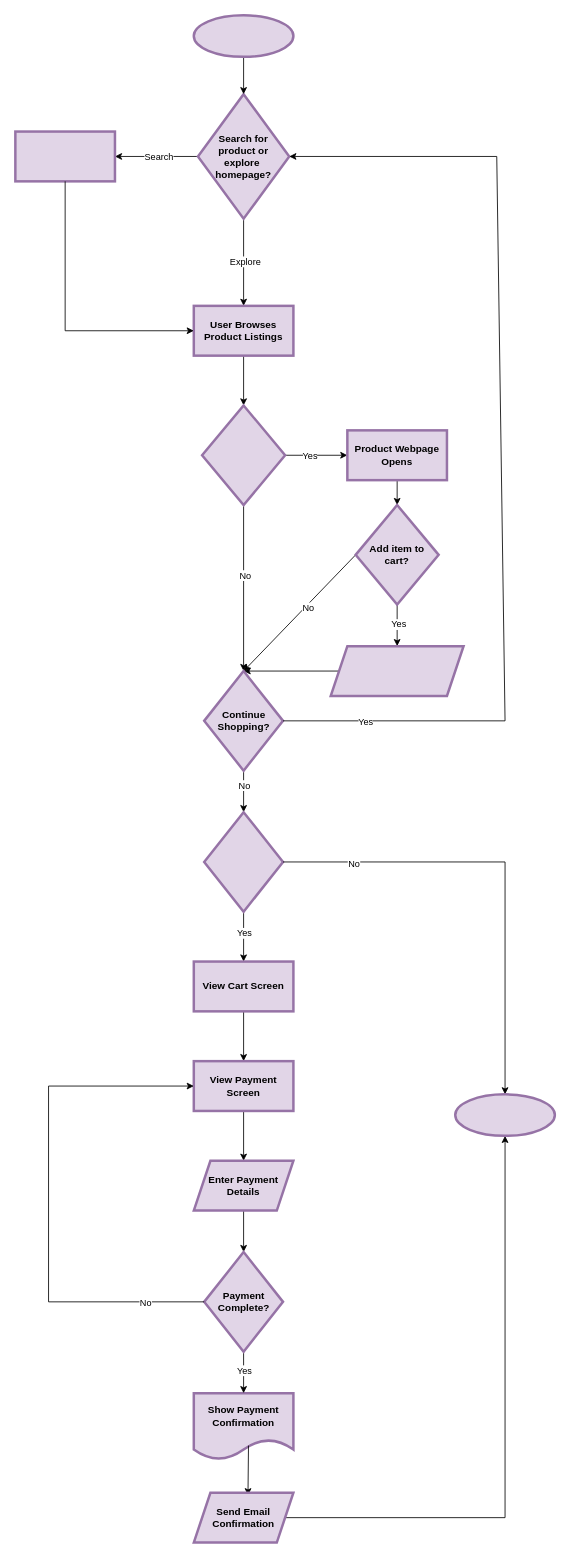
The diagram is 570 pixels wide and 1558 high, and some of its shapes have lost their labels. Each missing label, with the box of its shape:
End: User Leaves Website: (454, 1093, 556, 1137)
Proceed to checkout?: (203, 810, 284, 913)
Show Add to Cart Confirmation: (329, 644, 464, 697)
Start: User Enters Website: (192, 14, 294, 58)
User inputs search query: (14, 130, 116, 182)
View specific product?: (200, 404, 286, 506)
